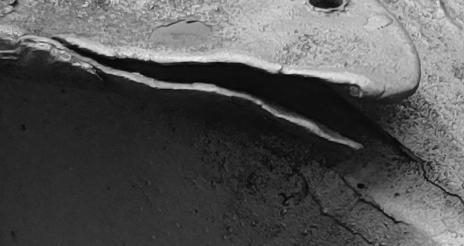crack: (1, 1, 464, 246)
